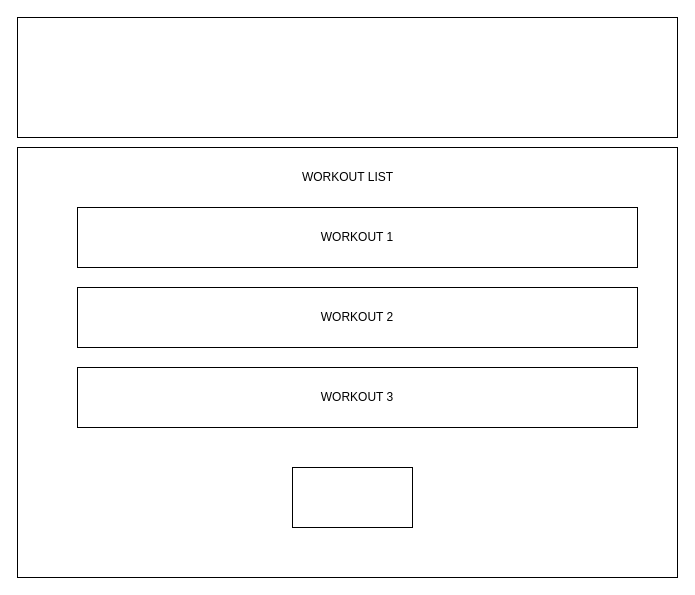
This 695x595 diagram has some shape labels left out. Here are the shapes that lost their labels. From the top down, the centre of each, then its label:
point 347,77: HEADER
point 352,497: ADD WORKOUT
